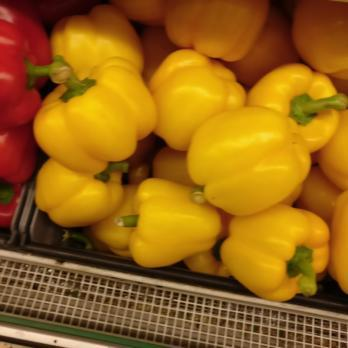Capsicum: (0, 2, 348, 233), (125, 233, 348, 300)
